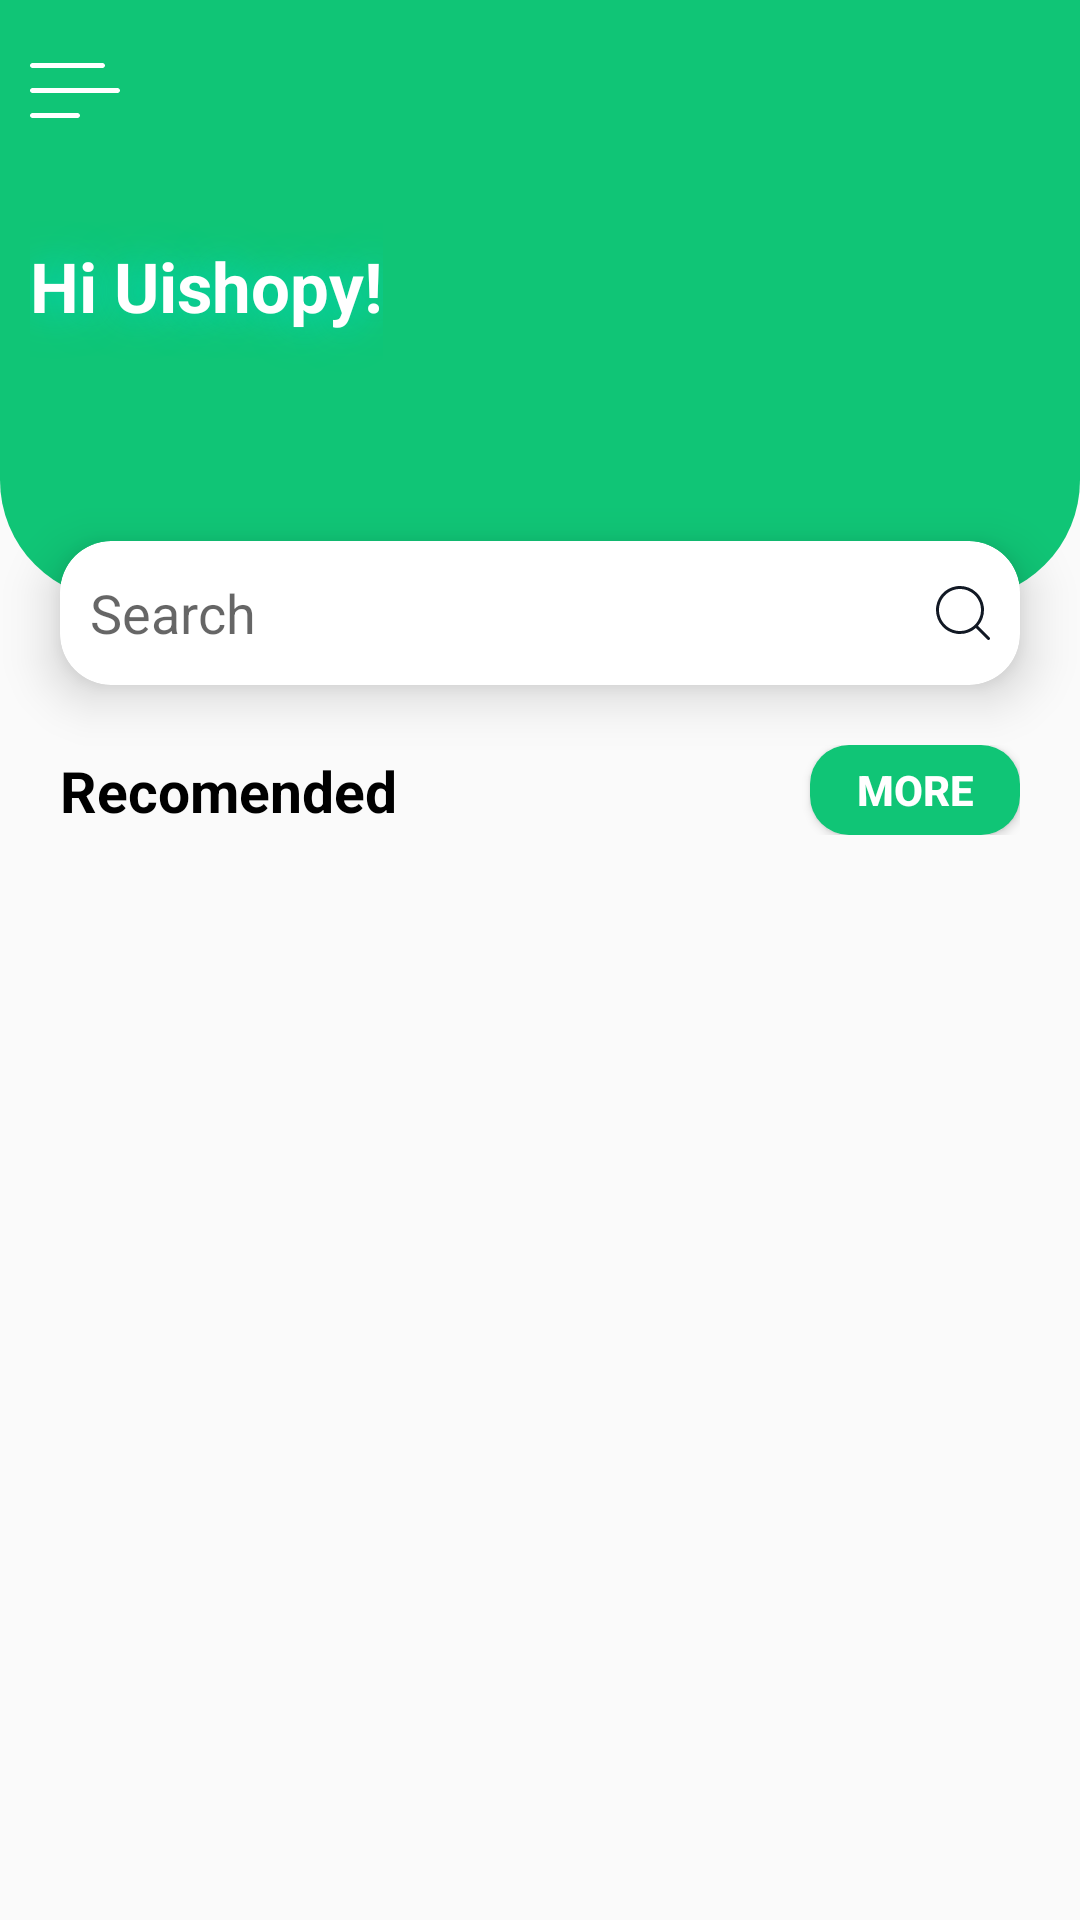

Icon click points for this 1080 × 1920 phone screenshot, format (x,y):
hamburger menu: (75,90)
